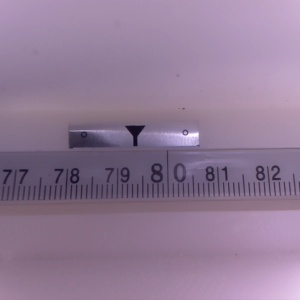0: (173, 162, 187, 182)
2: (270, 165, 281, 181)
7: (17, 169, 28, 185), (0, 169, 11, 185), (53, 169, 63, 184), (103, 168, 113, 183)
8: (150, 163, 162, 182), (69, 168, 80, 184), (255, 165, 265, 181), (206, 166, 215, 181)
9: (119, 167, 129, 183)
finger: (123, 125, 146, 147)
